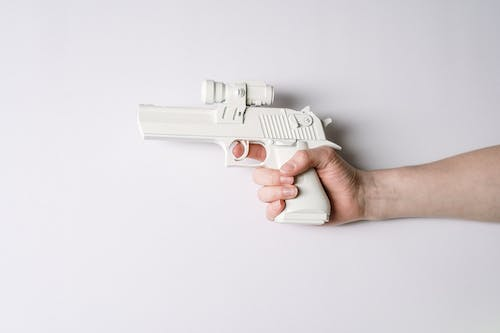gun: (135, 78, 344, 226)
